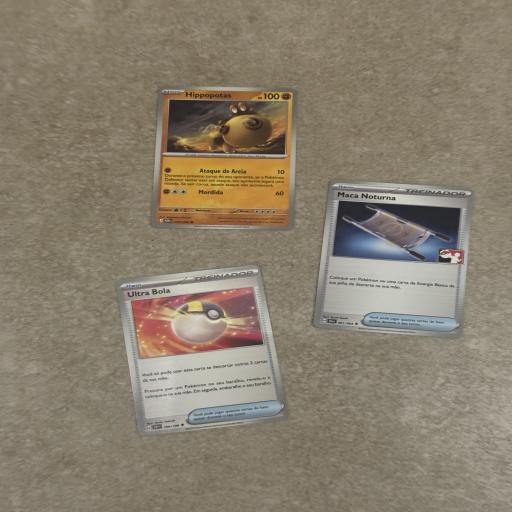card: (115, 258, 289, 446), (311, 173, 477, 340), (149, 85, 299, 230)
